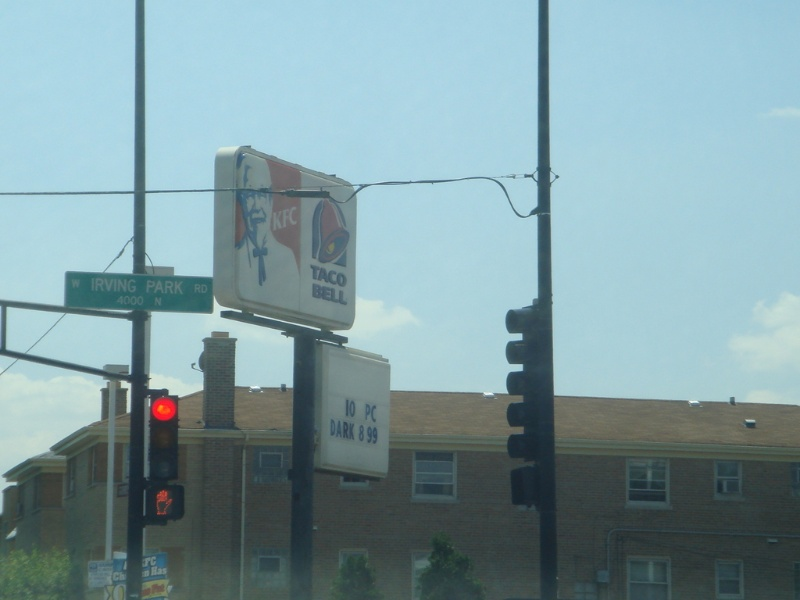red_light: (134, 387, 194, 439)
